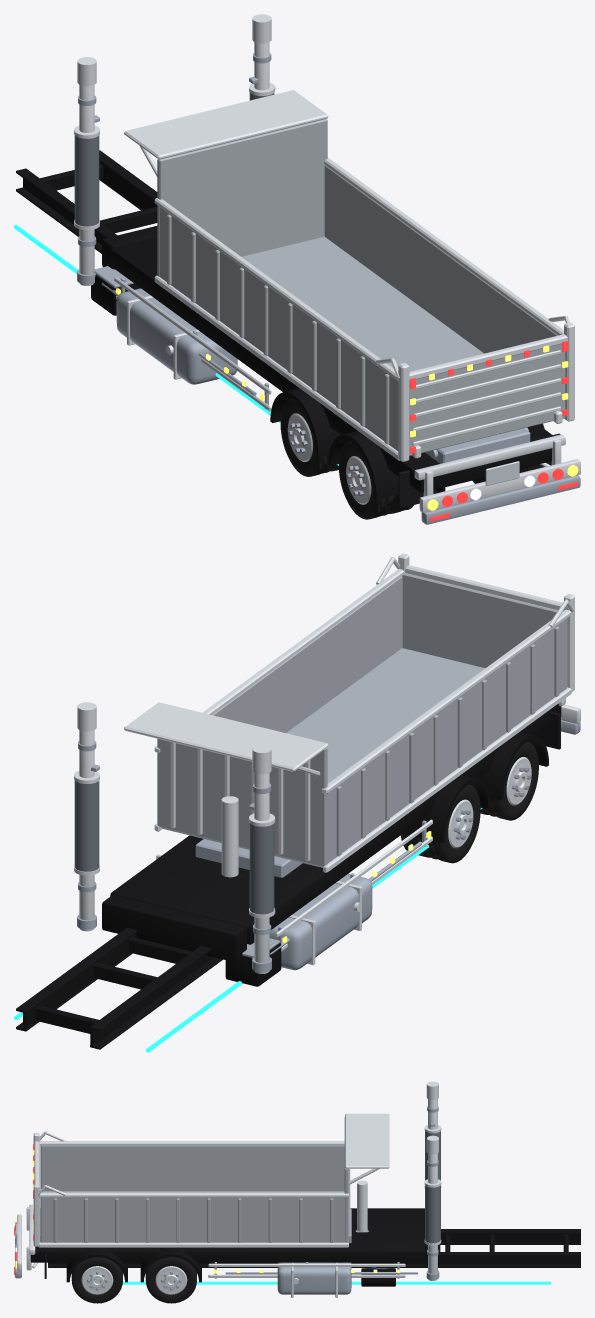
Rendered from body_dump.glb.
The picture shows the model from 3 angles, top to bottom: view 1: azimuth 30°, elevation 25°; view 2: azimuth 150°, elevation 25°; view 3: azimuth 270°, elevation 25°; orthographic projection. The views are drawn at different scales.
Parts seen in each view (by area): view 1: truck_dump_bed, truck_chrome, frame_plastic_black, frame_steel, frame_chrome, truck_steel, wheel_r_L_1.5_1.06, frame_mesh_perf, wheel_r_L_3.0_1.06, truck_lamp_red, truck_rubber, truck_lamp_amber (+1 smaller); view 2: truck_dump_bed, frame_plastic_black, truck_chrome, frame_steel, frame_chrome, frame_mesh_perf, wheel_r_L_3.0_1.06, wheel_r_L_1.5_1.06, truck_steel, frame_lamp_cyan; view 3: truck_dump_bed, frame_plastic_black, truck_chrome, frame_steel, wheel_r_R_3.0_1.06, wheel_r_R_1.5_1.06, frame_chrome, frame_mesh_perf, frame_lamp_cyan.
Boxes of the visible parts, x1,y1,x2,y2 form: truck_dump_bed: [157, 119, 565, 455]; truck_chrome: [114, 90, 580, 512]; frame_plastic_black: [16, 150, 553, 499]; frame_steel: [77, 53, 271, 395]; frame_chrome: [74, 14, 275, 379]; truck_steel: [120, 277, 580, 524]; wheel_r_L_1.5_1.06: [339, 441, 395, 519]; frame_mesh_perf: [74, 92, 274, 226]; wheel_r_L_3.0_1.06: [280, 398, 334, 476]; truck_lamp_red: [410, 341, 578, 521]; truck_rubber: [398, 433, 560, 508]; truck_lamp_amber: [116, 288, 578, 510]; truck_dump_bed: [157, 573, 567, 867]; frame_plastic_black: [16, 704, 561, 1049]; truck_chrome: [124, 553, 580, 951]; frame_steel: [77, 741, 422, 972]; frame_chrome: [74, 702, 361, 973]; frame_mesh_perf: [74, 780, 274, 914]; wheel_r_L_3.0_1.06: [426, 784, 480, 863]; wheel_r_L_1.5_1.06: [485, 742, 538, 820]; truck_steel: [195, 720, 580, 951]; frame_lamp_cyan: [14, 808, 482, 1052]; truck_dump_bed: [39, 1117, 348, 1242]; frame_plastic_black: [30, 1208, 580, 1286]; truck_chrome: [17, 1113, 405, 1277]; frame_steel: [225, 1106, 439, 1294]; wheel_r_R_3.0_1.06: [145, 1257, 196, 1303]; wheel_r_R_1.5_1.06: [71, 1257, 122, 1303]; frame_chrome: [291, 1081, 441, 1297]; frame_mesh_perf: [425, 1131, 440, 1243]; frame_lamp_cyan: [122, 1281, 551, 1284].
Size of the model in its own units: 2.94 by 3.75 by 11.49.
14 materials, 2 textured.
